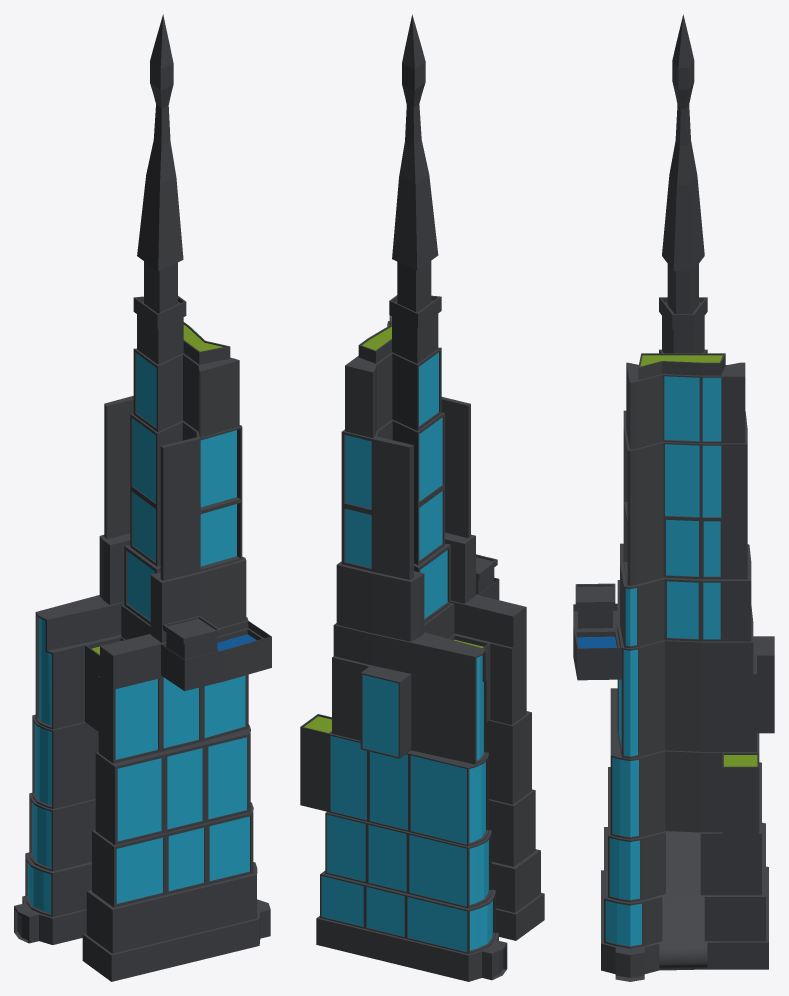
Rendered from Skyscraper.fbx.
3 renders of one model, left to right at view 1: azimuth 30°, elevation 25°; view 2: azimuth 150°, elevation 25°; view 3: azimuth 270°, elevation 25°, orthographic.
Visible parts, largest first — view 1: Cube; view 2: Cube; view 3: Cube.
Part boxes in pixels (x1,y1,x2,y2): Cube: [14, 14, 271, 981]; Cube: [300, 14, 544, 981]; Cube: [573, 14, 774, 981].
Bounding box in the file's own units: 959 × 839 × 4264.
